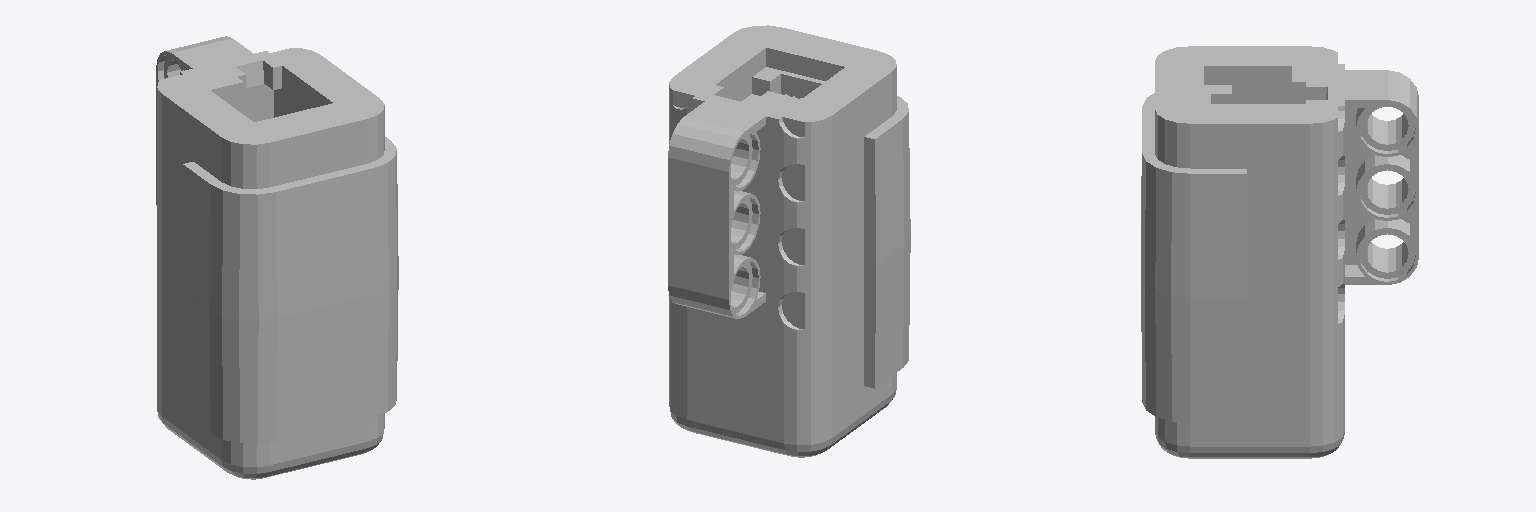
The model's file is nxt colour sensor.obj.
The picture shows the model from 3 angles: view 1: azimuth 30°, elevation 25°; view 2: azimuth 150°, elevation 25°; view 3: azimuth 270°, elevation 25°; orthographic projection.
Visible parts, largest first — view 1: Piece000; view 2: Piece000; view 3: Piece000.
Boxes of the visible parts, x1,y1,x2,y2 form: Piece000: [156, 36, 398, 479]; Piece000: [668, 25, 910, 457]; Piece000: [1141, 46, 1418, 458].
Size of the model in its own units: 60 by 107 by 79.